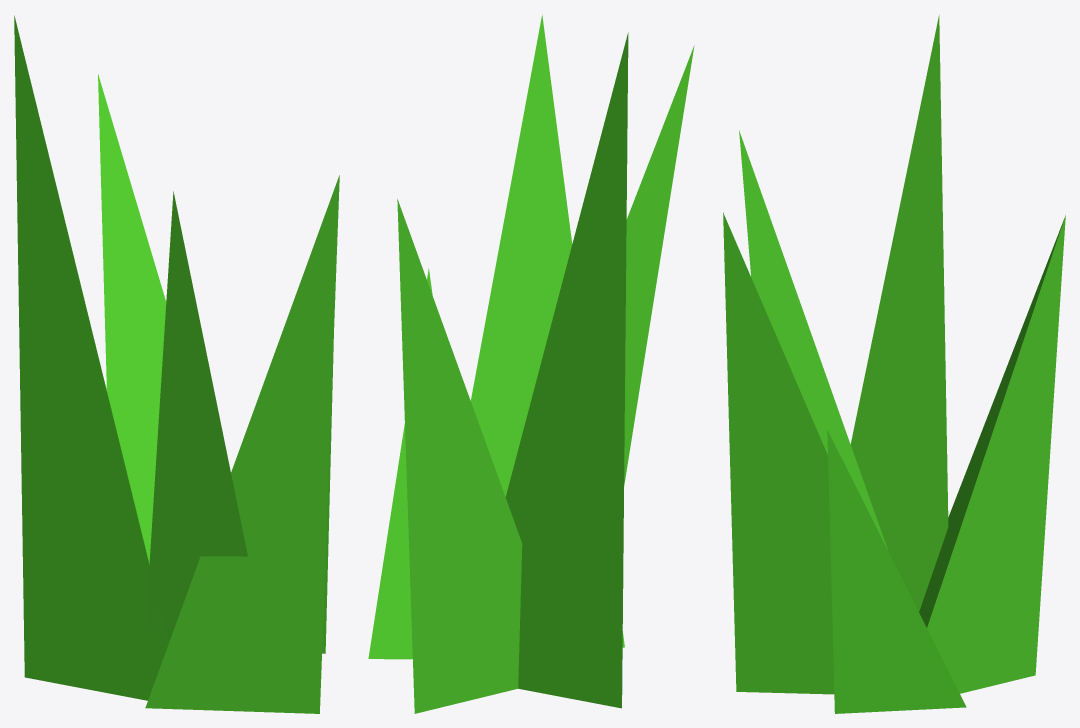
Rendered from Grass.fbx.
3 renders of one model, left to right at view 1: azimuth 30°, elevation 25°; view 2: azimuth 150°, elevation 25°; view 3: azimuth 270°, elevation 25°, orthographic. The views are drawn at different scales.
Parts seen in each view (by area): view 1: Cone.004; view 2: Cone.004; view 3: Cone.004.
Boxes of the visible parts, box(x1,y1,x2,y2) form: Cone.004: box(14, 15, 339, 713); Cone.004: box(368, 14, 694, 713); Cone.004: box(723, 15, 1065, 713).
Bounding box in the file's own units: 29.44 × 72.62 × 37.98.
